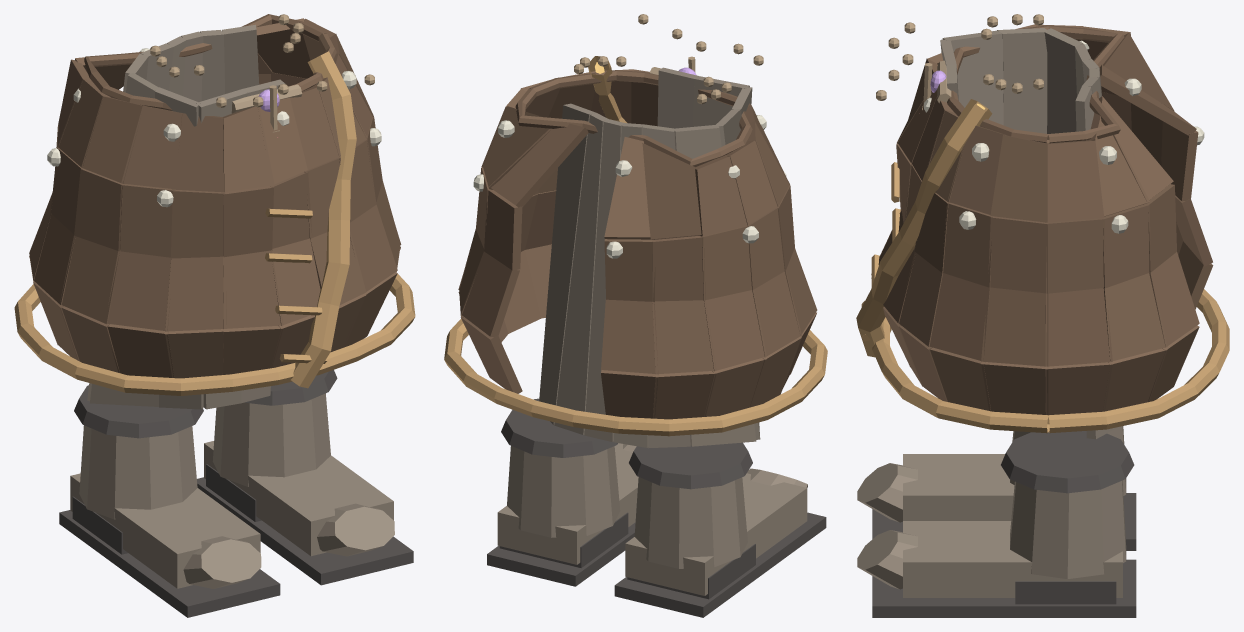
The model's file is barbarian_kit.glb.
3 renders of one model, left to right at view 1: azimuth 30°, elevation 25°; view 2: azimuth 150°, elevation 25°; view 3: azimuth 270°, elevation 25°, orthographic. The views are drawn at different scales.
Visible parts, largest first — view 1: Armour_Jerkin_leather_barbarian, Acc_BootR_cloth_barbarian, Acc_BootL_cloth_barbarian, Armour_Jerkin_trim_barbarian, Acc_Cloak_cloth_barbarian, Acc_BootR_dark_barbarian, Acc_BootL_dark_barbarian, Acc_Amulet_metal_barbarian, Armour_Jerkin_metal_barbarian; view 2: Armour_Jerkin_leather_barbarian, Acc_Cloak_cloth_barbarian, Acc_BootR_cloth_barbarian, Acc_BootL_cloth_barbarian, Acc_BootR_dark_barbarian, Armour_Jerkin_trim_barbarian, Acc_BootL_dark_barbarian, Acc_Amulet_metal_barbarian, Armour_Jerkin_metal_barbarian; view 3: Armour_Jerkin_leather_barbarian, Acc_BootL_cloth_barbarian, Armour_Jerkin_trim_barbarian, Acc_BootL_dark_barbarian, Acc_Cloak_cloth_barbarian, Acc_BootR_cloth_barbarian, Acc_Amulet_metal_barbarian, Armour_Jerkin_metal_barbarian, Acc_BootR_dark_barbarian.
Boxes of the visible parts, <box> form: Armour_Jerkin_leather_barbarian: <box>29,14,401,378</box>; Acc_BootR_cloth_barbarian: <box>70,425,261,588</box>; Acc_BootL_cloth_barbarian: <box>204,393,394,556</box>; Armour_Jerkin_trim_barbarian: <box>14,51,415,395</box>; Acc_Cloak_cloth_barbarian: <box>87,24,285,409</box>; Acc_BootR_dark_barbarian: <box>59,385,280,617</box>; Acc_BootL_dark_barbarian: <box>197,370,413,585</box>; Acc_Amulet_metal_barbarian: <box>150,14,374,132</box>; Armour_Jerkin_metal_barbarian: <box>47,48,381,207</box>; Armour_Jerkin_leather_barbarian: <box>458,69,817,419</box>; Acc_Cloak_cloth_barbarian: <box>539,67,760,448</box>; Acc_BootR_cloth_barbarian: <box>625,468,807,595</box>; Acc_BootL_cloth_barbarian: <box>497,443,638,564</box>; Acc_BootR_dark_barbarian: <box>614,442,826,617</box>; Armour_Jerkin_trim_barbarian: <box>444,56,827,436</box>; Acc_BootL_dark_barbarian: <box>487,398,635,586</box>; Acc_Amulet_metal_barbarian: <box>574,14,763,104</box>; Armour_Jerkin_metal_barbarian: <box>473,115,786,258</box>; Armour_Jerkin_leather_barbarian: <box>871,24,1213,415</box>; Acc_BootL_cloth_barbarian: <box>857,480,1126,597</box>; Armour_Jerkin_trim_barbarian: <box>856,99,1229,433</box>; Acc_BootL_dark_barbarian: <box>872,431,1136,617</box>; Acc_Cloak_cloth_barbarian: <box>940,28,1118,439</box>; Acc_BootR_cloth_barbarian: <box>857,426,1126,522</box>; Acc_Amulet_metal_barbarian: <box>876,14,1043,110</box>; Armour_Jerkin_metal_barbarian: <box>924,40,1204,233</box>; Acc_BootR_dark_barbarian: <box>872,493,1136,550</box>.
Size of the model in its own units: 0.9026 by 1.23 by 0.8062.
